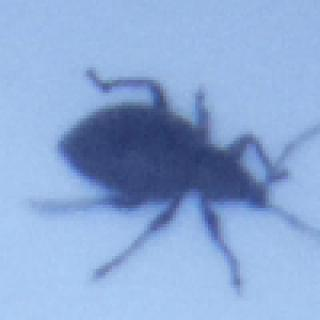bvw: (29, 65, 318, 297)
